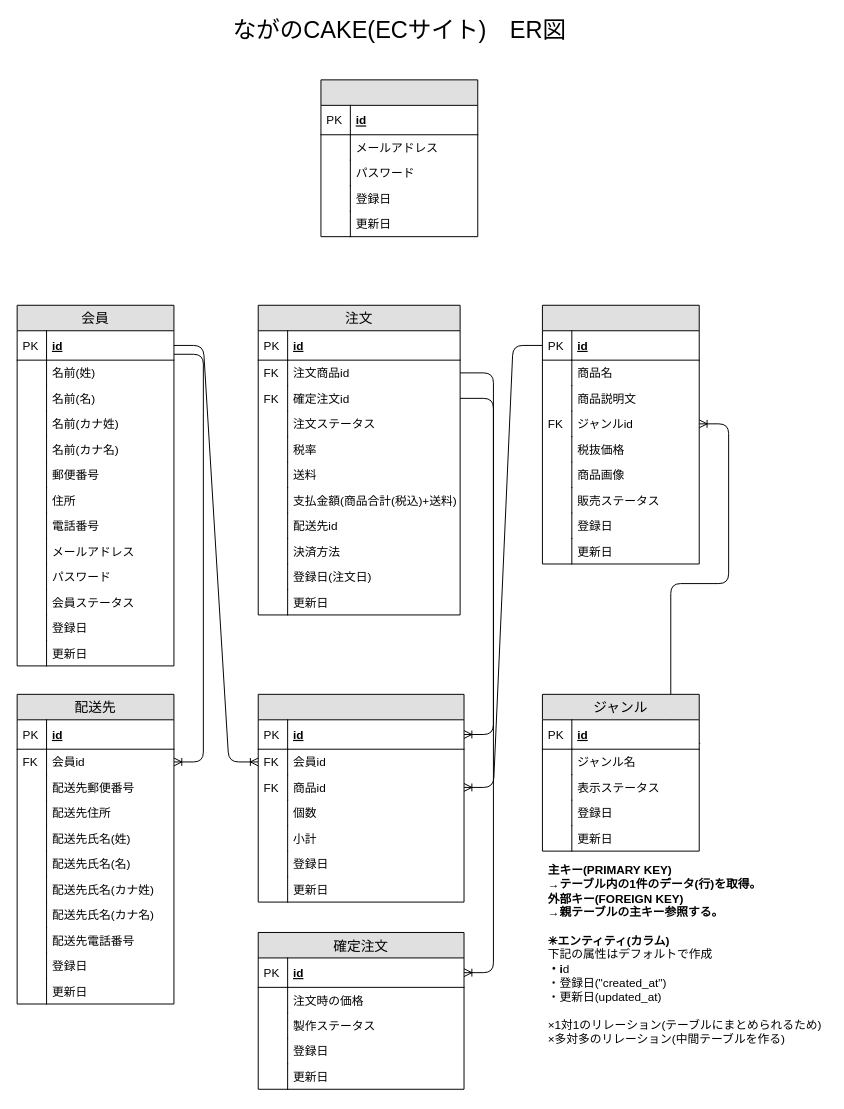
Image size: 844x1109. Some labels were removed from this diagram. The shapes that lost their labels are listed below. From the top down, each one's box as (x1, y1, x2, y2) in pixels, then its label:
(320, 79, 478, 237): 管理者
(541, 304, 699, 564): 商品
(257, 693, 464, 902): 注文商品(カート)＝中間テーブル
